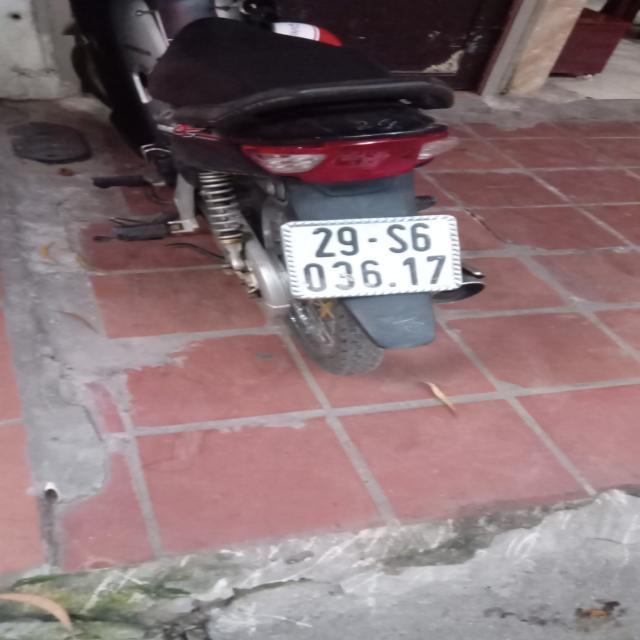license: (279, 213, 462, 300)
